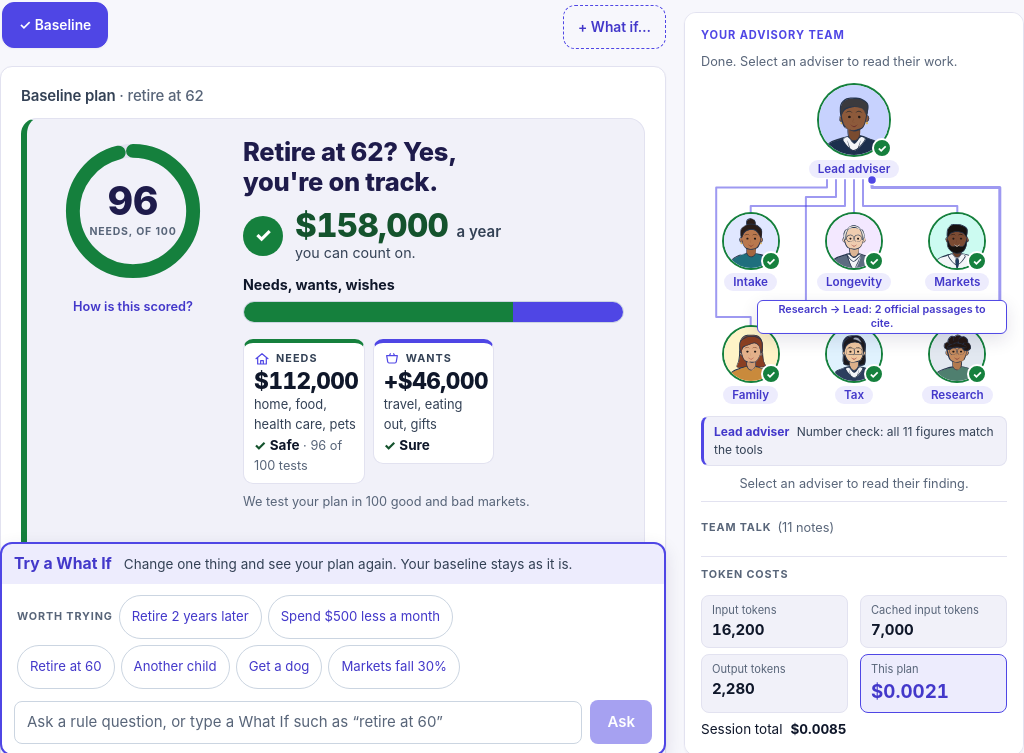
Test case: Plan screen: scenario tabs › Compare: all tabs side by side, the baseline first, and picking a tab goes back to its plan
What coordinates should you click on to do the following:
click the button "Retire at 60"
I would click on:
 (66, 667)
Its box is [17,645,115,689].
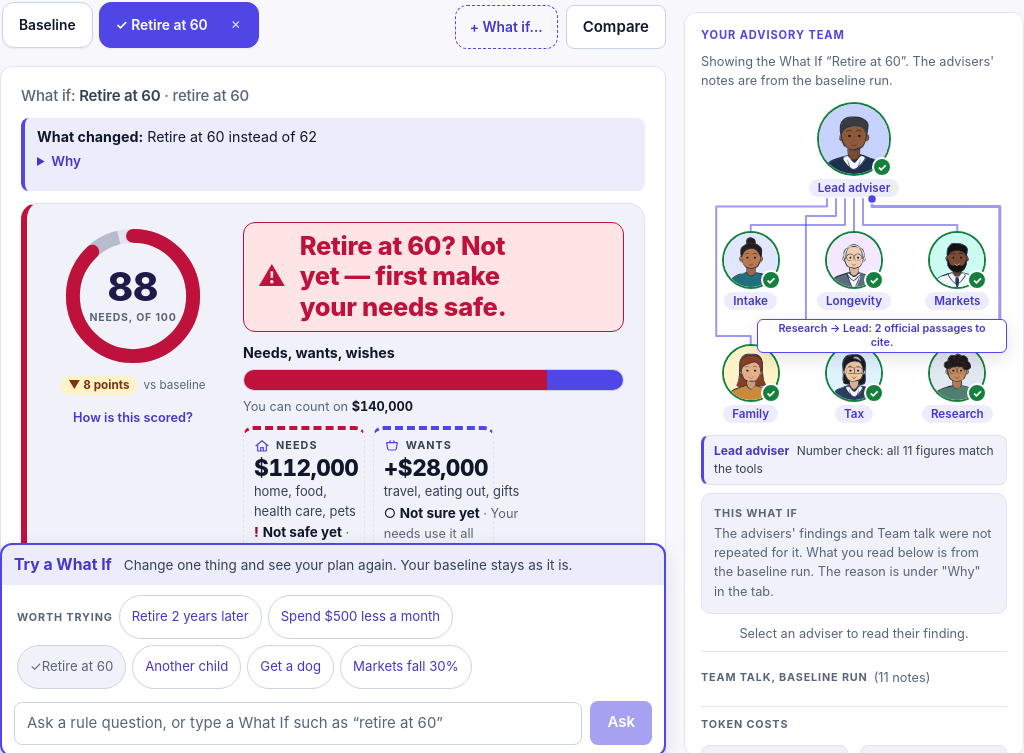
What coordinates should you click on to do the following:
click the button "Another child"
I would click on:
 (187, 667)
Its box is [132,645,241,689].
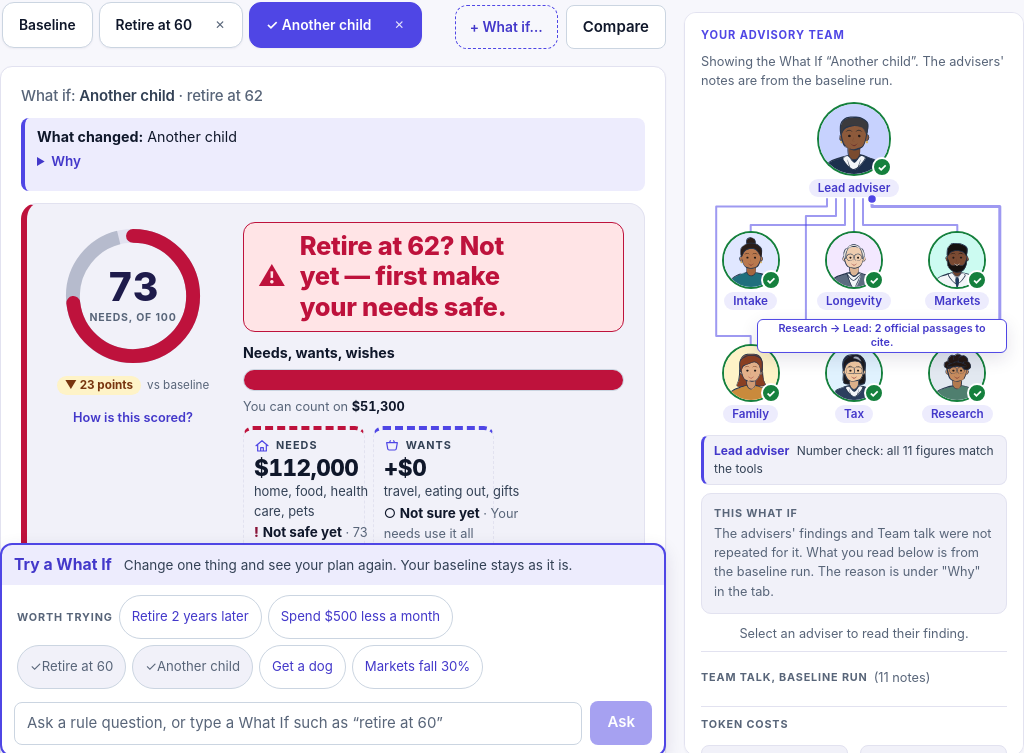
What coordinates should you click on to do the following:
click the button "Compare"
I would click on:
 (616, 27)
Its box is [566,5,666,49].
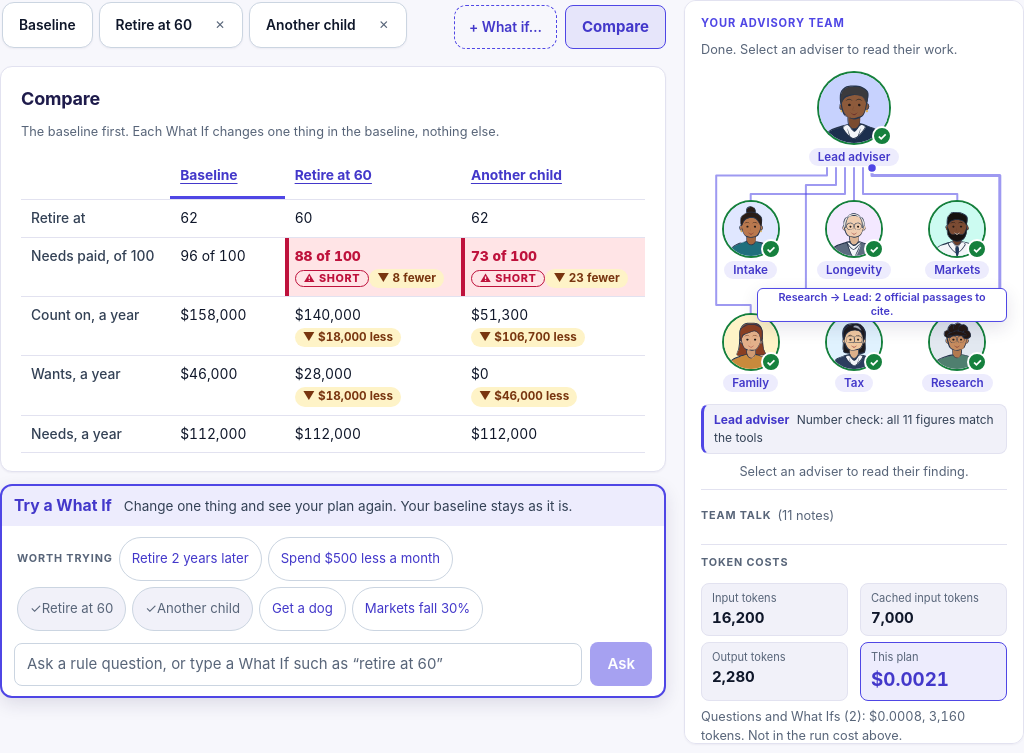
Check: the element with test id "compare-view" is shown, box [0,66,666,472]
Check: the cell "96 of 100" is shown, box [170,237,285,296]
What coordinates should you click on to do the following:
click the button with class "cmp-open" showing "Retire at 60"
I would click on:
 (333, 175)
Its box is [295,159,372,191].
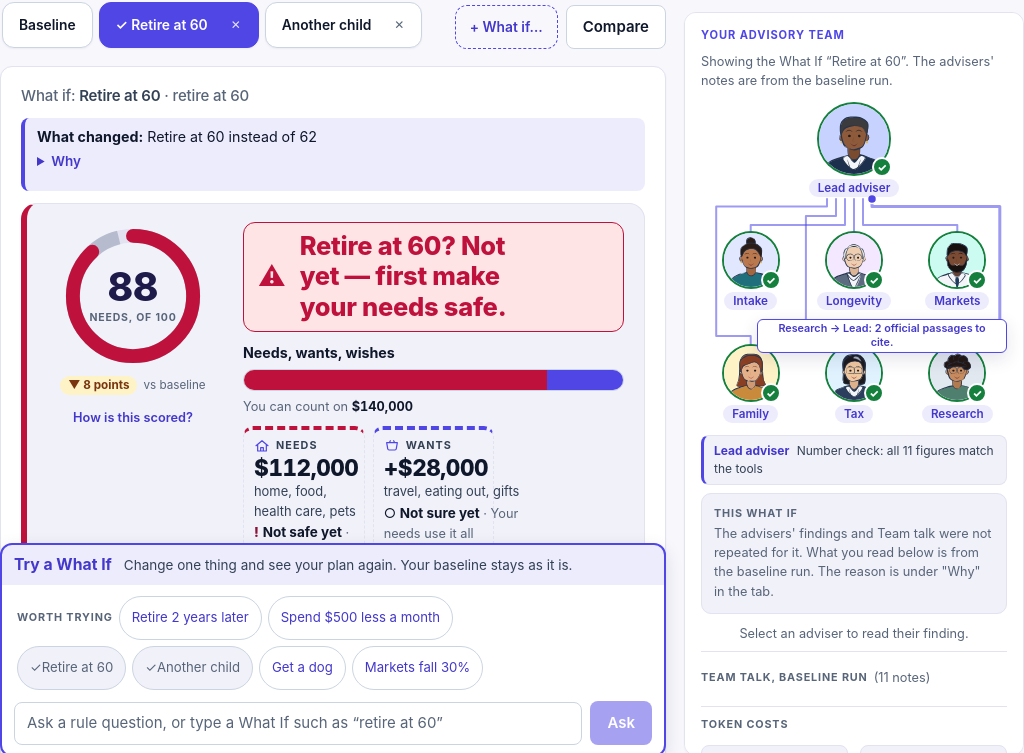
Check: the tab "Retire at 60" is shown, box [100,3,214,47]
Check: the element with test id "compare-view" is gone
Check: the heading "What if: Retire at 60 · retire at 60" is shown, box [21,86,249,105]
